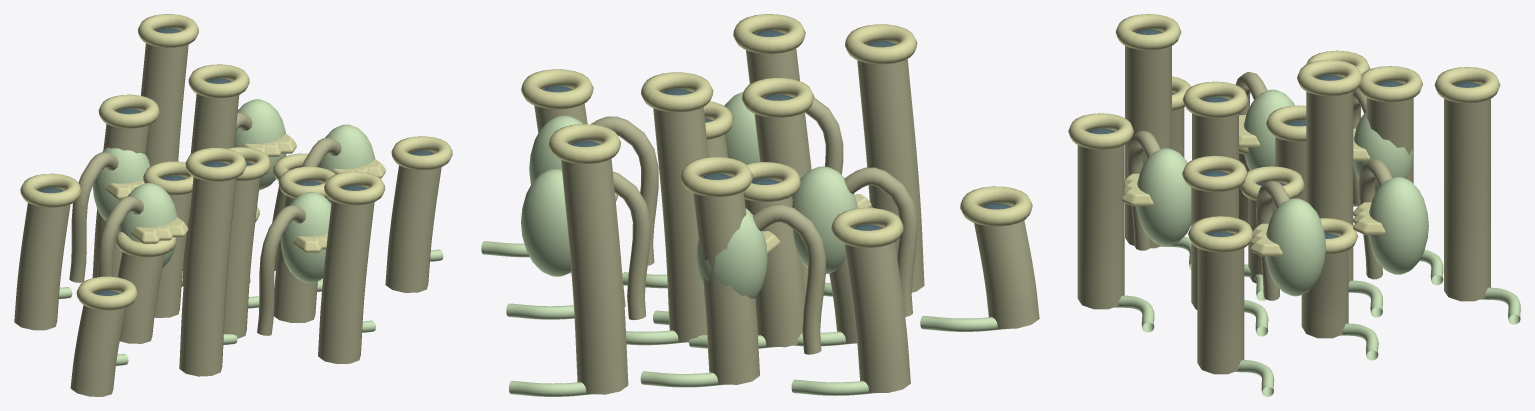
Rendered from bio_thermal_colony_23_near.glb.
The picture shows the model from 3 angles, left to right: view 1: azimuth 30°, elevation 25°; view 2: azimuth 150°, elevation 25°; view 3: azimuth 270°, elevation 25°; orthographic projection. The views are drawn at different scales.
Parts seen in each view (by area): view 1: Chimney biofilm.007, Chimney biofilm.010, Chimney biofilm.009, Chimney biofilm.013, Chimney biofilm.011, Chimney biofilm.012, Chimney biofilm.002, Chimney biofilm.004, Pendant spore capsule.002, Chimney biofilm.003, Arched fruit stem.002, Chimney biofilm.005 (+27 smaller); view 2: Chimney biofilm.011, Chimney biofilm.003, Chimney biofilm.006, Chimney biofilm.009, Chimney biofilm.007, Chimney biofilm.012, Chimney biofilm.001, Pendant spore capsule.003, Pendant spore capsule.004, Arched fruit stem.001, Pendant spore capsule.001, Arched fruit stem.004 (+27 smaller); view 3: Chimney biofilm.011, Chimney biofilm.010, Chimney biofilm.003, Chimney biofilm.013, Chimney biofilm.007, Pendant spore capsule, Pendant spore capsule.003, Pendant spore capsule.002, Chimney biofilm.008, Pendant spore capsule.004, Chimney biofilm.006, Chimney biofilm.002 (+34 smaller).
Boxes of the visible parts, x1=… form: Chimney biofilm.007: x1=179, y1=164, x2=236, y2=376; Chimney biofilm.010: x1=318, y1=187, x2=374, y2=364; Chimney biofilm.009: x1=14, y1=189, x2=70, y2=330; Chimney biofilm.013: x1=385, y1=152, x2=441, y2=292; Chimney biofilm.011: x1=141, y1=30, x2=188, y2=166; Chimney biofilm.012: x1=70, y1=292, x2=125, y2=396; Chimney biofilm.002: x1=223, y1=163, x2=260, y2=338; Chimney biofilm.004: x1=117, y1=252, x2=164, y2=343; Pendant spore capsule.002: x1=280, y1=192, x2=331, y2=282; Chimney biofilm.003: x1=182, y1=80, x2=239, y2=285; Arched fruit stem.002: x1=257, y1=205, x2=306, y2=335; Chimney biofilm.005: x1=274, y1=182, x2=328, y2=322; Chimney biofilm.011: x1=561, y1=143, x2=628, y2=394; Chimney biofilm.003: x1=653, y1=91, x2=708, y2=342; Chimney biofilm.006: x1=693, y1=176, x2=759, y2=384; Chimney biofilm.009: x1=844, y1=226, x2=910, y2=392; Chimney biofilm.007: x1=857, y1=43, x2=924, y2=292; Chimney biofilm.012: x1=974, y1=205, x2=1039, y2=328; Chimney biofilm.001: x1=744, y1=181, x2=805, y2=347; Pendant spore capsule.003: x1=521, y1=169, x2=571, y2=276; Pendant spore capsule.004: x1=792, y1=166, x2=858, y2=274; Arched fruit stem.001: x1=753, y1=204, x2=825, y2=354; Pendant spore capsule.001: x1=696, y1=208, x2=767, y2=298; Arched fruit stem.004: x1=844, y1=167, x2=917, y2=316; Chimney biofilm.011: x1=1444, y1=84, x2=1490, y2=301; Chimney biofilm.010: x1=1077, y1=130, x2=1124, y2=309; Chimney biofilm.003: x1=1306, y1=77, x2=1353, y2=283; Chimney biofilm.013: x1=1197, y1=233, x2=1244, y2=374; Chimney biofilm.007: x1=1125, y1=31, x2=1171, y2=248; Pendant spore capsule: x1=1265, y1=198, x2=1325, y2=296; Pendant spore capsule.003: x1=1368, y1=177, x2=1428, y2=274; Pendant spore capsule.002: x1=1136, y1=148, x2=1191, y2=246; Chimney biofilm.008: x1=1301, y1=235, x2=1348, y2=338; Pendant spore capsule.004: x1=1243, y1=89, x2=1294, y2=170; Chimney biofilm.006: x1=1366, y1=83, x2=1413, y2=183; Chimney biofilm.002: x1=1192, y1=99, x2=1238, y2=218.
Size of the model in its own units: 2.19 by 1.07 by 1.92.
